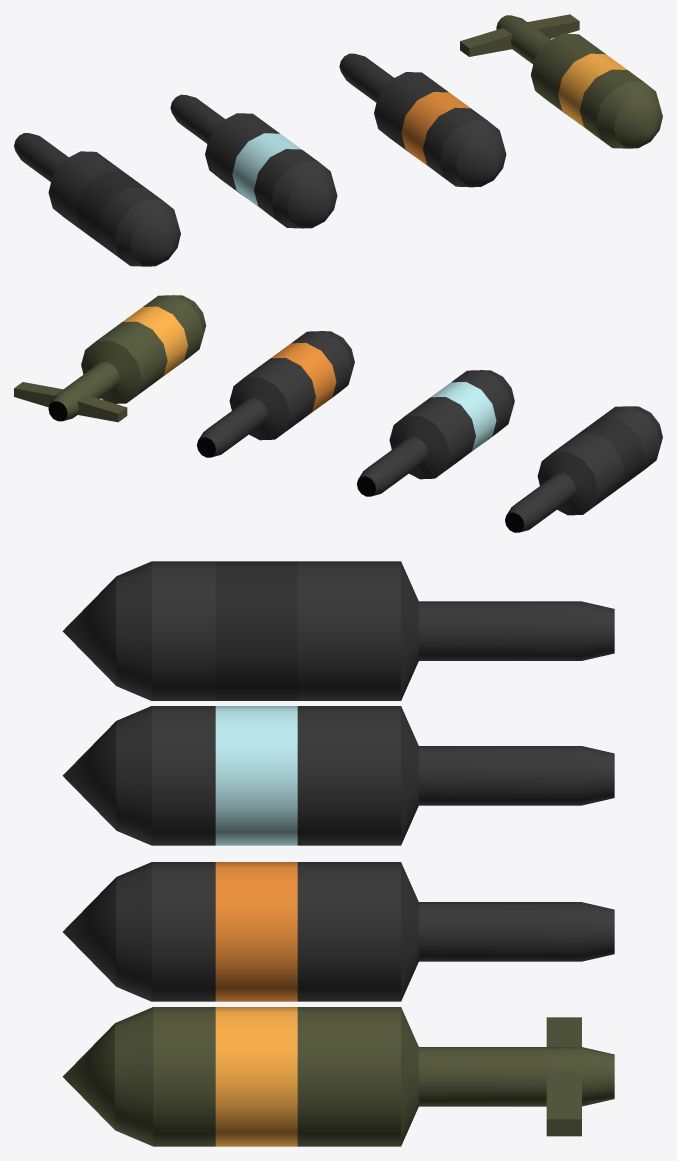
The model's file is rocket.fbx.
3 renders of one model, top to bottom at view 1: azimuth 30°, elevation 25°; view 2: azimuth 150°, elevation 25°; view 3: azimuth 270°, elevation 25°, orthographic. The views are drawn at different scales.
Visible parts, largest first — view 1: Missile, Chemical Rocket, Rocket, Fire Rocket; view 2: Missile, Chemical Rocket, Rocket, Fire Rocket; view 3: Missile, Rocket, Chemical Rocket, Fire Rocket.
Part boxes in pixels (left/top/right/bottom): Missile: left=460, top=14, right=662, bottom=148; Chemical Rocket: left=170, top=94, right=337, bottom=228; Rocket: left=14, top=133, right=180, bottom=266; Fire Rocket: left=339, top=53, right=506, bottom=187; Missile: left=14, top=295, right=206, bottom=422; Chemical Rocket: left=357, top=370, right=514, bottom=496; Rocket: left=505, top=406, right=662, bottom=532; Fire Rocket: left=197, top=331, right=354, bottom=457; Missile: left=62, top=1007, right=614, bottom=1146; Rocket: left=62, top=561, right=614, bottom=700; Chemical Rocket: left=62, top=706, right=614, bottom=845; Fire Rocket: left=63, top=862, right=614, bottom=1001.
Size of the model in its own units: 0.8134 by 0.0916 by 0.3607.
